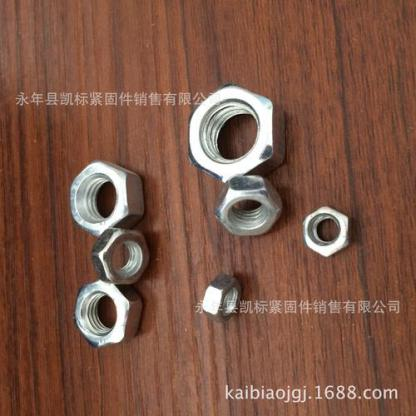FOD: (185, 82, 283, 182), (69, 158, 146, 239), (71, 278, 143, 351), (212, 176, 284, 238), (90, 229, 151, 286), (301, 206, 350, 260), (200, 272, 244, 325)
